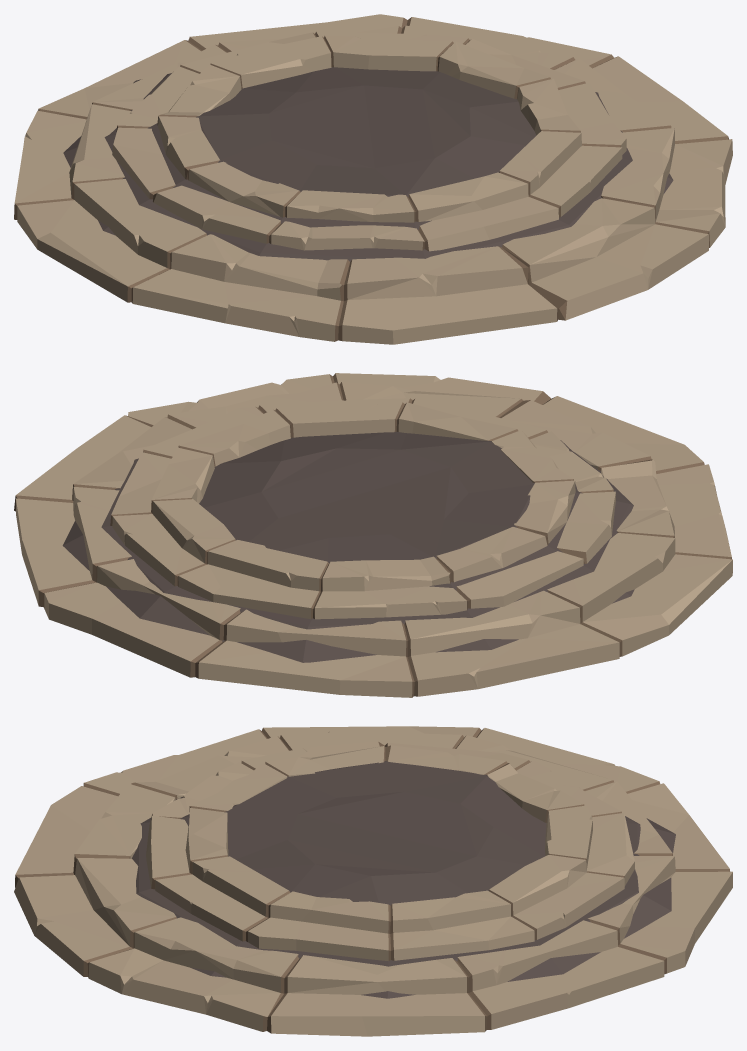
Rendered from Stairs Round _1_1.fbx.
The picture shows the model from 3 angles, top to bottom: view 1: azimuth 30°, elevation 25°; view 2: azimuth 150°, elevation 25°; view 3: azimuth 270°, elevation 25°; orthographic projection. The views are drawn at different scales.
Visible parts, largest first — view 1: Stairs Round _1_1; view 2: Stairs Round _1_1; view 3: Stairs Round _1_1.
Boxes of the visible parts, x1,y1,x2,y2 form: Stairs Round _1_1: (14,14,732,344); Stairs Round _1_1: (14,373,732,697); Stairs Round _1_1: (14,726,732,1036).
Size of the model in its own units: 8.84 by 0.794 by 8.99.
